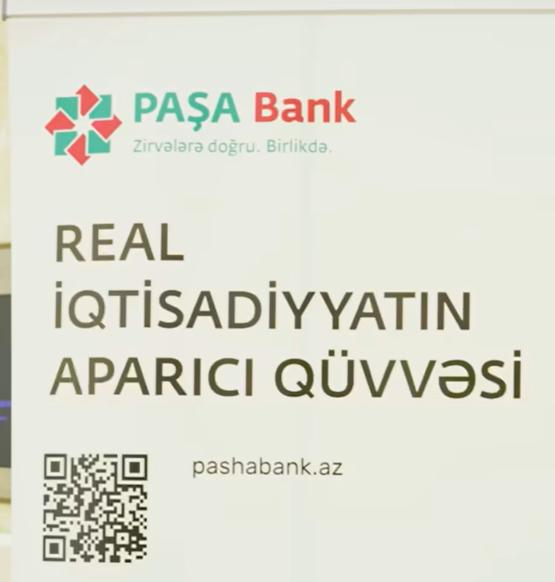Pasha Bank: (41, 81, 125, 169)
